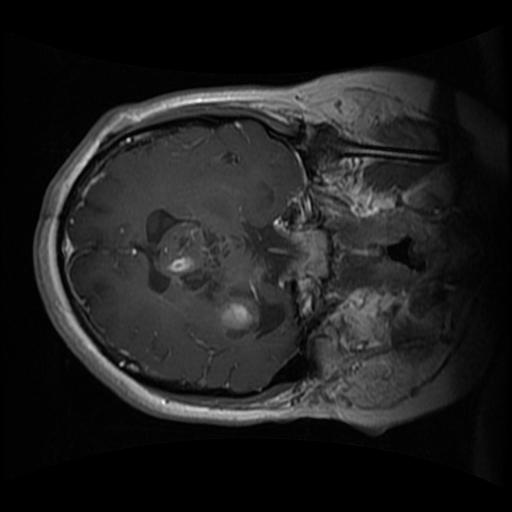glioma: (141, 205, 284, 341)
